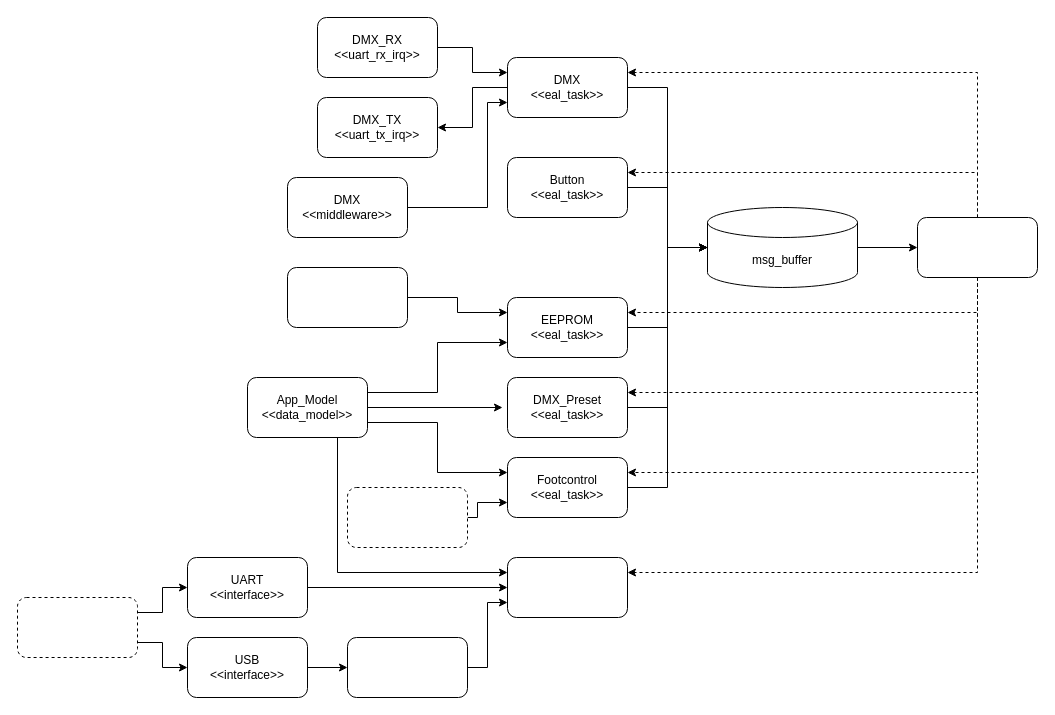
This 1055x715 diagram has some shape labels left out. The shapes that lost their labels are listed below. From the top down, each one's centre as x and y in pixels, then its label:
At point (977, 247): "App <<eal_task>>".
At point (347, 297): "EEPROM_24xxxx <<driver>>".
At point (407, 517): "Artistcontrol <<ui>>".
At point (567, 587): "Interface <<eal_task>>".
At point (77, 627): "Configuration Software <<ui>>".
At point (407, 667): "USB <<eal_task>>".
